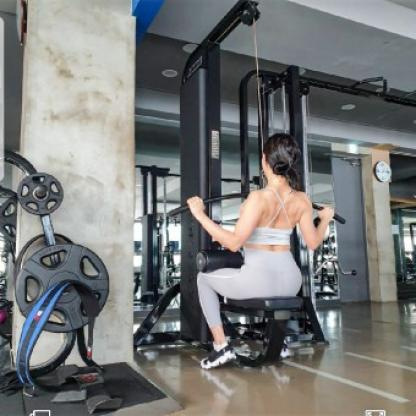Lat Pull Down: (128, 0, 386, 374)
